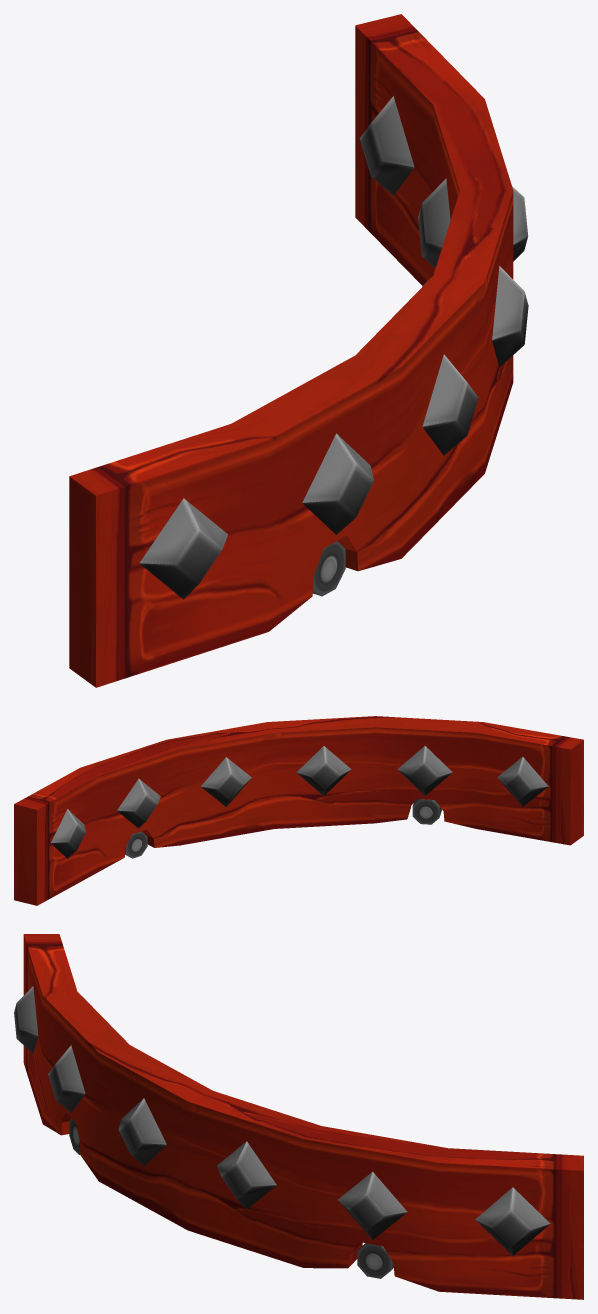
The model's file is dynamic_arched_fence_red_04.fbx.
The picture shows the model from 3 angles, top to bottom: view 1: azimuth 30°, elevation 25°; view 2: azimuth 150°, elevation 25°; view 3: azimuth 270°, elevation 25°; orthographic projection. The views are drawn at different scales.
Parts seen in each view (by area): view 1: dynamic_arched_fence_red_04; view 2: dynamic_arched_fence_red_04; view 3: dynamic_arched_fence_red_04.
Boxes of the visible parts, left/top/right/bottom form: dynamic_arched_fence_red_04: left=69, top=14, right=528, bottom=687; dynamic_arched_fence_red_04: left=14, top=716, right=583, bottom=905; dynamic_arched_fence_red_04: left=14, top=934, right=583, bottom=1299.
Size of the model in its own units: 160 by 40 by 160.
